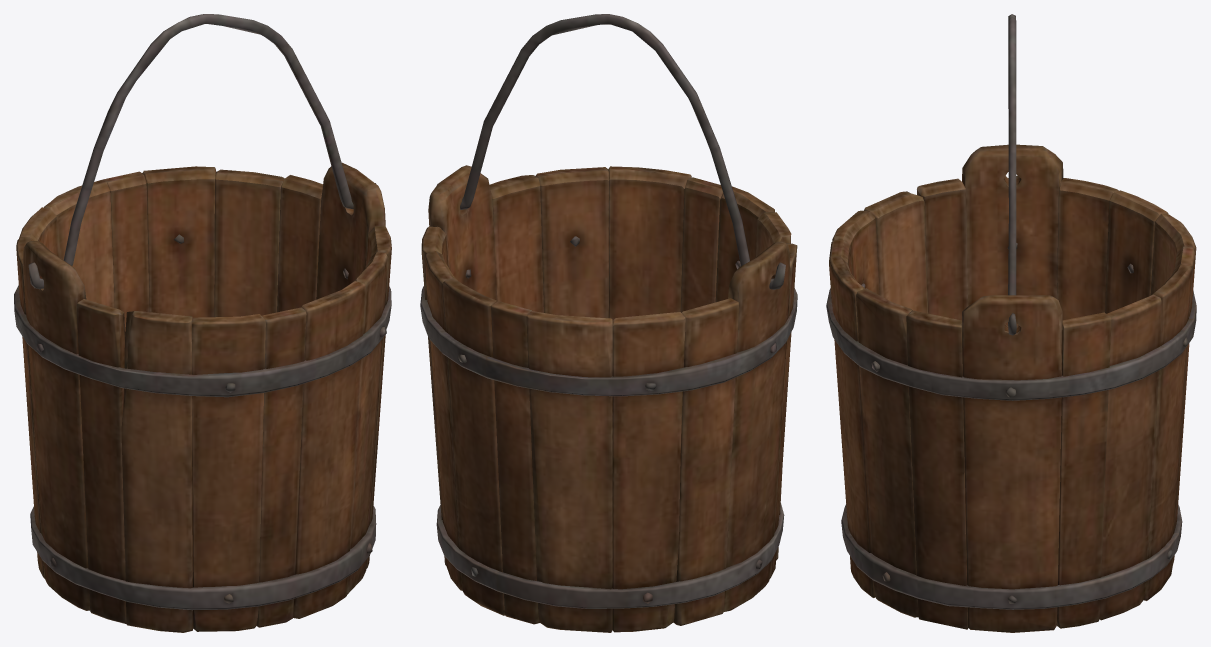
Rendered from wooden_bucket_01.glb.
3 views of the same model, side by side, from view 1: azimuth 30°, elevation 25°; view 2: azimuth 150°, elevation 25°; view 3: azimuth 270°, elevation 25° (orthographic).
Visible parts, largest first — view 1: wooden_bucket_01; view 2: wooden_bucket_01; view 3: wooden_bucket_01.
Part boxes in pixels (x1,y1,x2,y2): wooden_bucket_01: (14, 14, 391, 632); wooden_bucket_01: (420, 14, 797, 632); wooden_bucket_01: (826, 14, 1196, 632).
Bounding box in the file's own units: 0.3663 × 0.5499 × 0.3422.
Materials: 1 (1 with a texture image).
